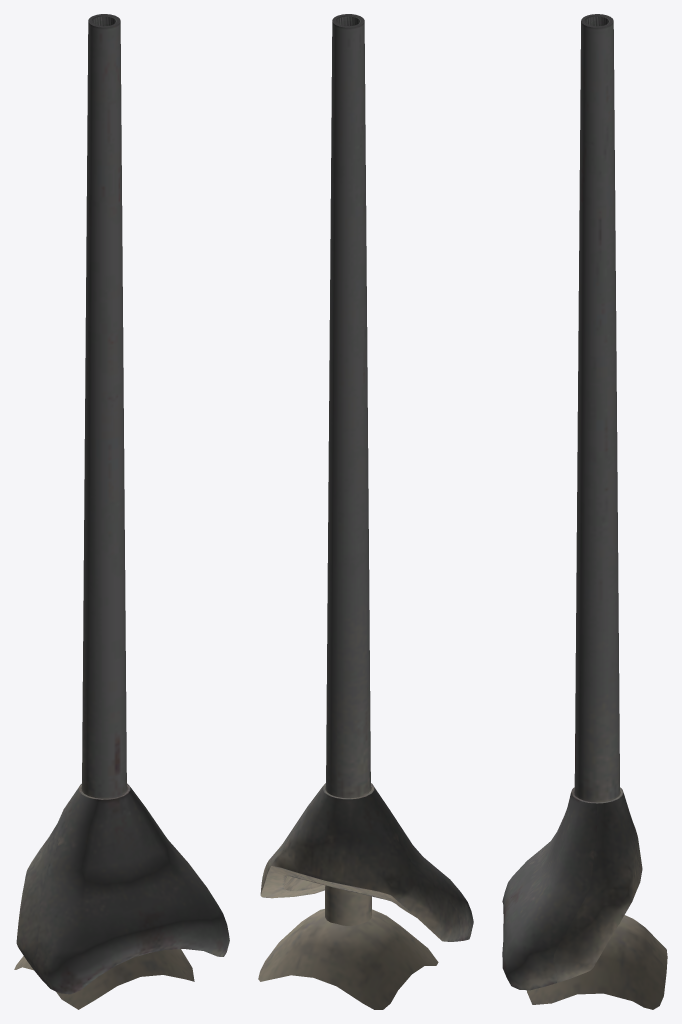
The model's file is Gun_01.glb.
3 views of the same model, side by side, from view 1: azimuth 30°, elevation 25°; view 2: azimuth 150°, elevation 25°; view 3: azimuth 270°, elevation 25° (orthographic).
Visible parts, largest first — view 1: set_0_group_0; view 2: set_0_group_0; view 3: set_0_group_0.
Boxes of the visible parts, x1,y1,x2,y2 form: set_0_group_0: (14, 14, 229, 1009); set_0_group_0: (258, 14, 473, 1009); set_0_group_0: (502, 14, 667, 1009).
Size of the model in its own units: 0.6901 by 3.41 by 0.5326.
1 material, 1 textured.
